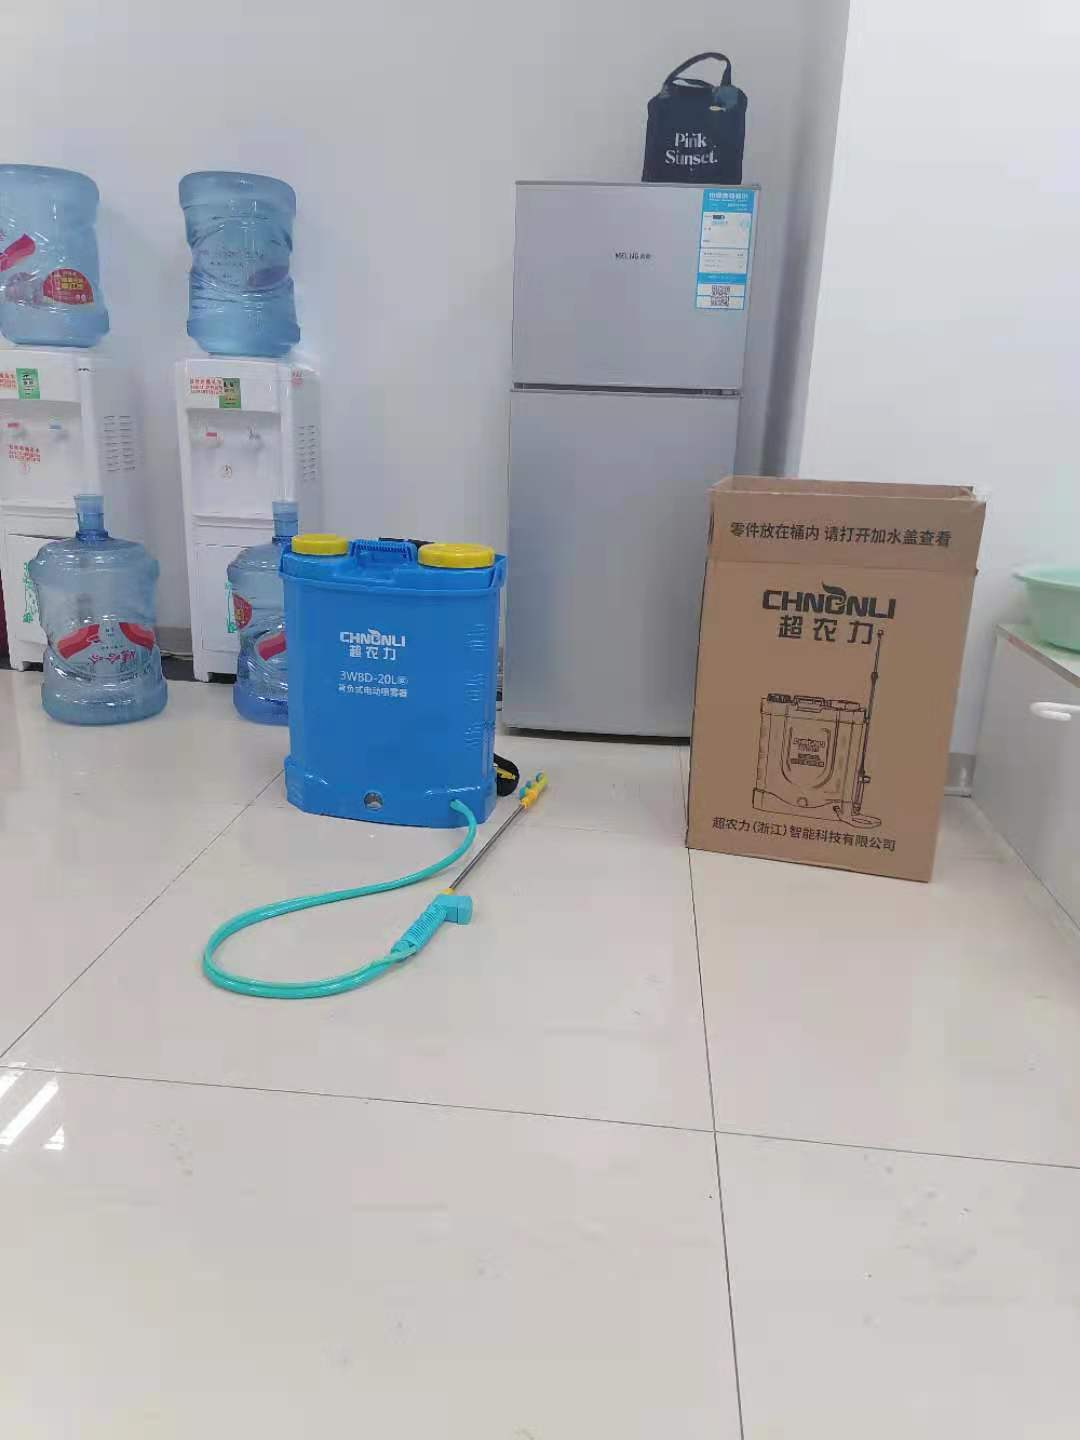berrl: (271, 527, 503, 833)
